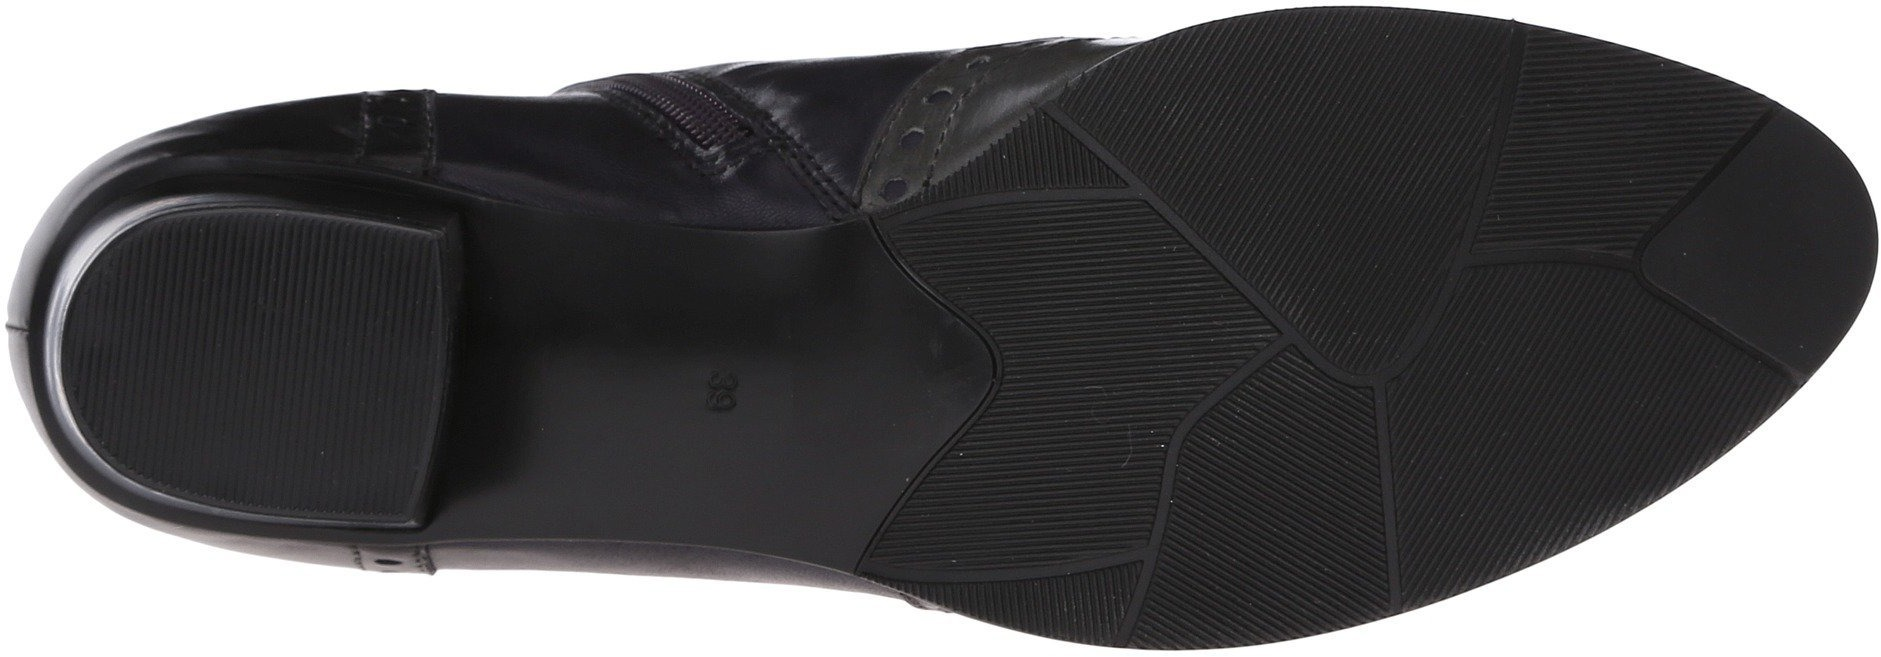quad: (61, 211, 440, 518)
